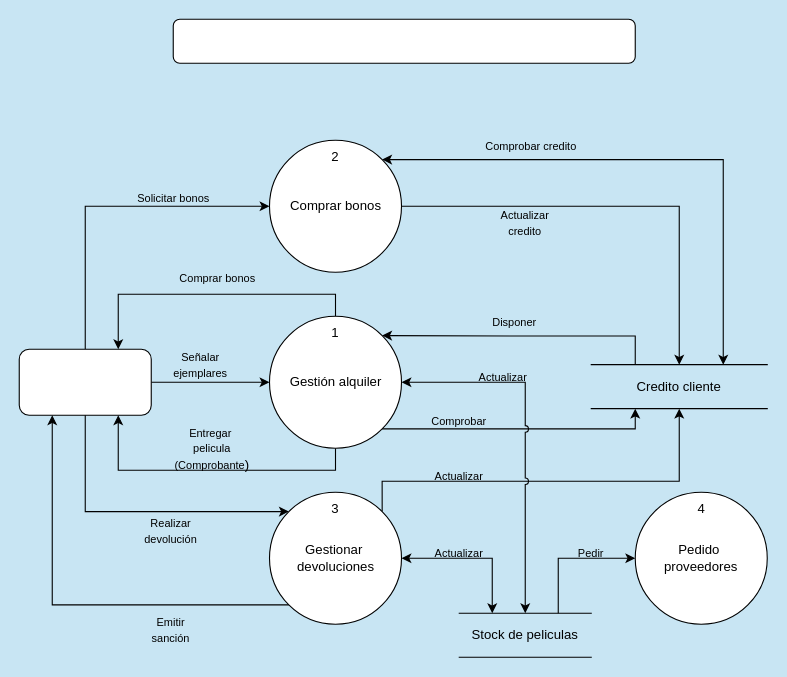
Image size: 787x677. Some labels were removed from this diagram. The shapes that lost their labels are listed below. From the top down, each one's centre as x and y in pixels, then its label:
At (x=403, y=40): "Diagrama 0: Gestinar Videoclub".
At (x=84, y=381): "Cliente".
